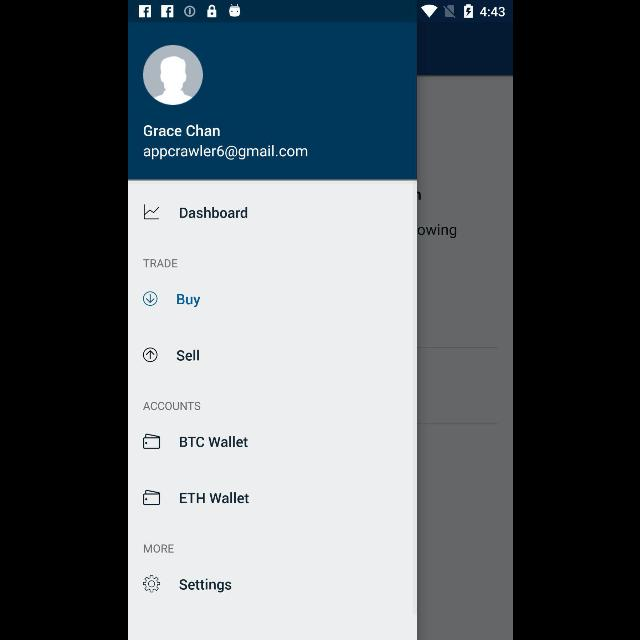icon: (142, 45, 202, 105), (142, 576, 160, 592), (142, 489, 160, 505), (142, 434, 160, 448), (142, 348, 158, 362), (142, 292, 156, 306)
image: (144, 204, 158, 220)
panel: (128, 22, 416, 640)
text: (143, 145, 307, 161), (143, 125, 220, 137), (178, 436, 248, 448), (180, 492, 248, 503), (179, 578, 231, 592), (179, 208, 247, 218), (142, 402, 200, 411), (177, 294, 200, 308), (143, 259, 177, 267), (176, 349, 198, 361), (143, 544, 173, 552)
uppertaskbar: (128, 1, 512, 23)
